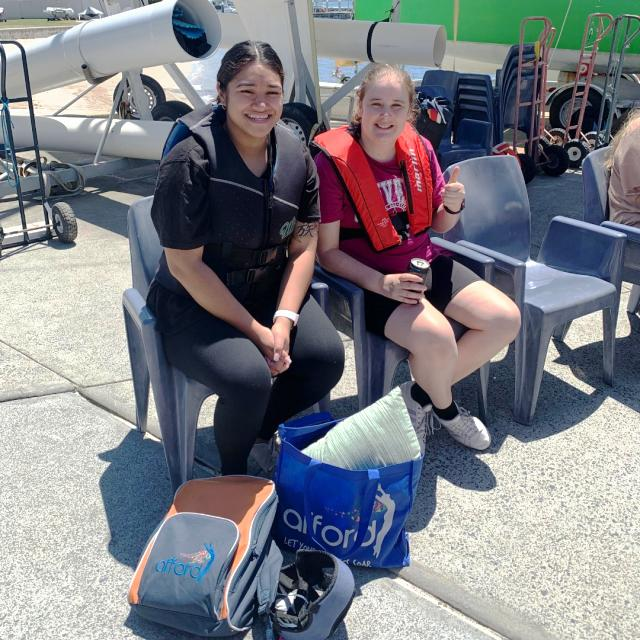other_gesture: (381, 270, 428, 307), (440, 179, 468, 215)
thumbs_up: (253, 315, 297, 378)
